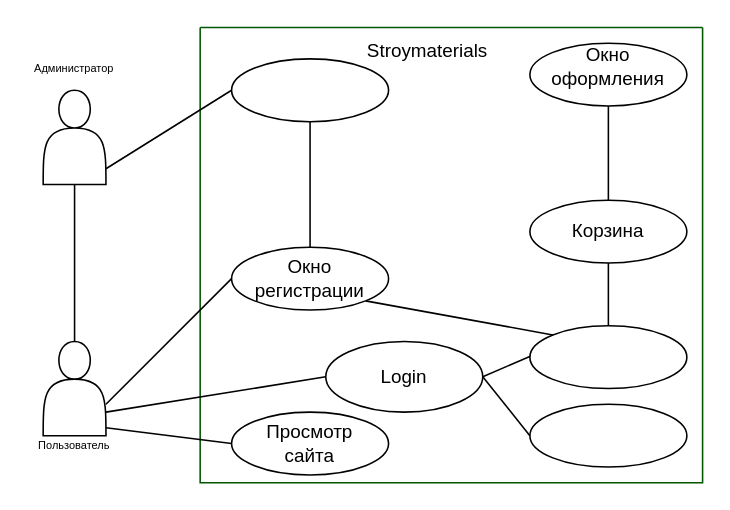
This 730x510 diagram has some shape labels left out. Each missing label, with the centre of its shape:
invalid password: the point at 607,435
Администрирование: the point at 309,89
Просмотр сайта с расшире нным доступом: the point at 607,356
